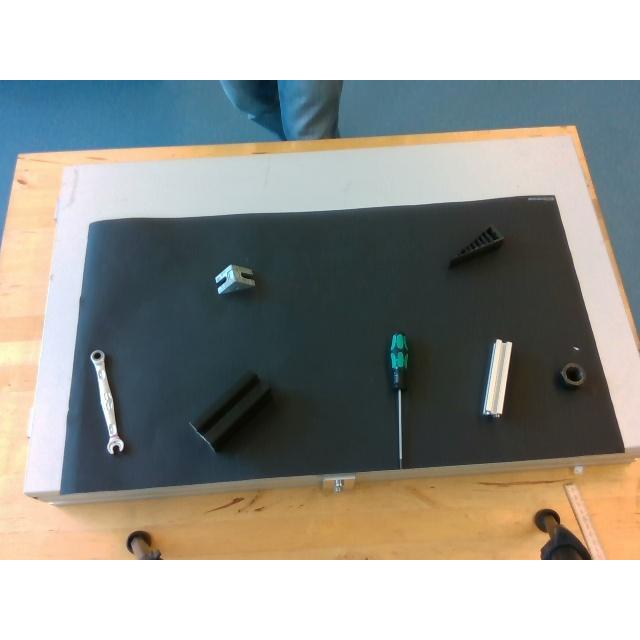F20_20_G: (482, 339, 511, 415)
M20: (556, 361, 588, 392)
S40_40_B: (189, 373, 271, 451)
Screwdriver: (388, 329, 412, 473)
Wrench: (87, 348, 129, 456)
